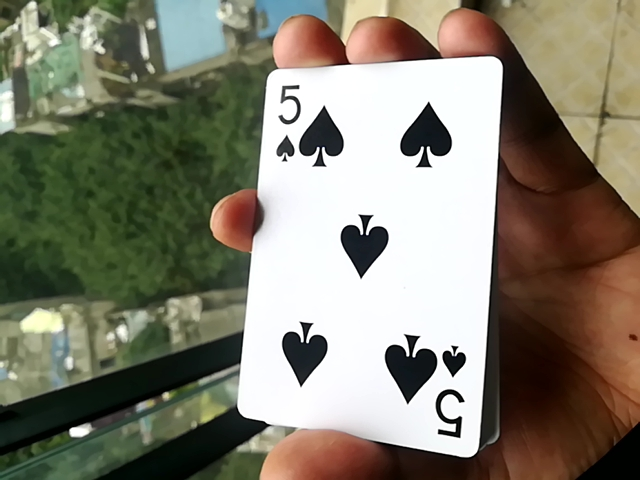ht 5: (232, 59, 499, 456)
